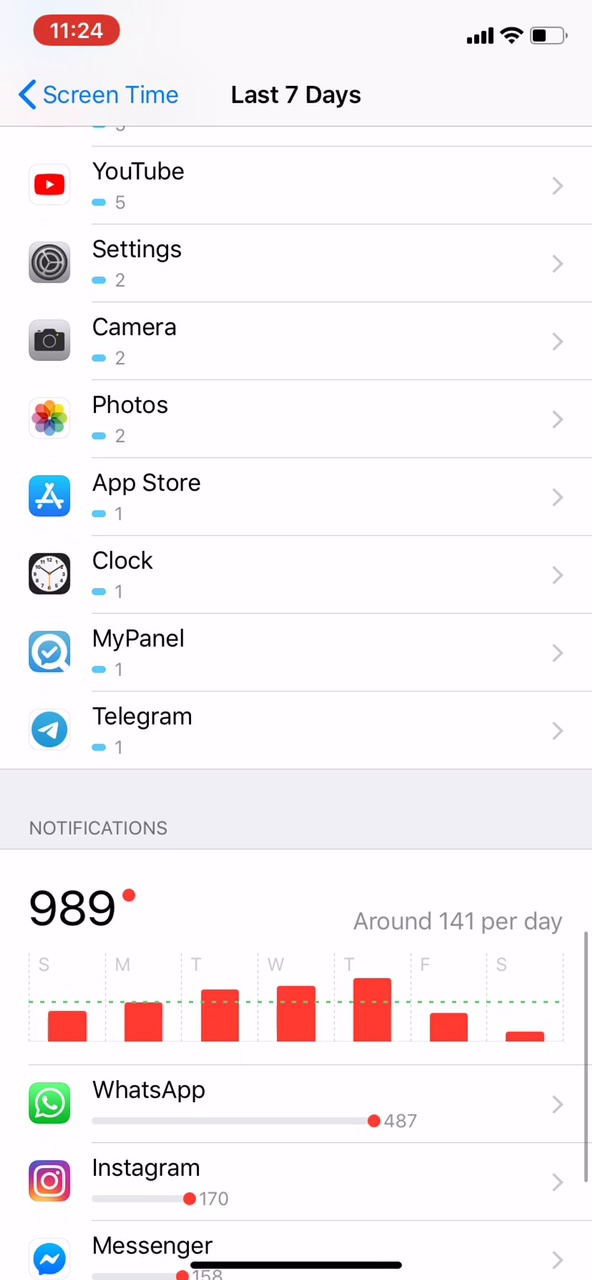not_app: (22, 1074, 459, 1138)
not_over: (20, 796, 203, 938)
pick_app: (15, 464, 236, 530), (15, 388, 223, 453), (25, 224, 218, 294), (18, 697, 222, 761), (22, 150, 226, 213), (20, 310, 222, 372), (20, 621, 218, 680), (17, 546, 204, 605)
pick_over: (20, 1153, 286, 1213)
week: (215, 75, 378, 116)
